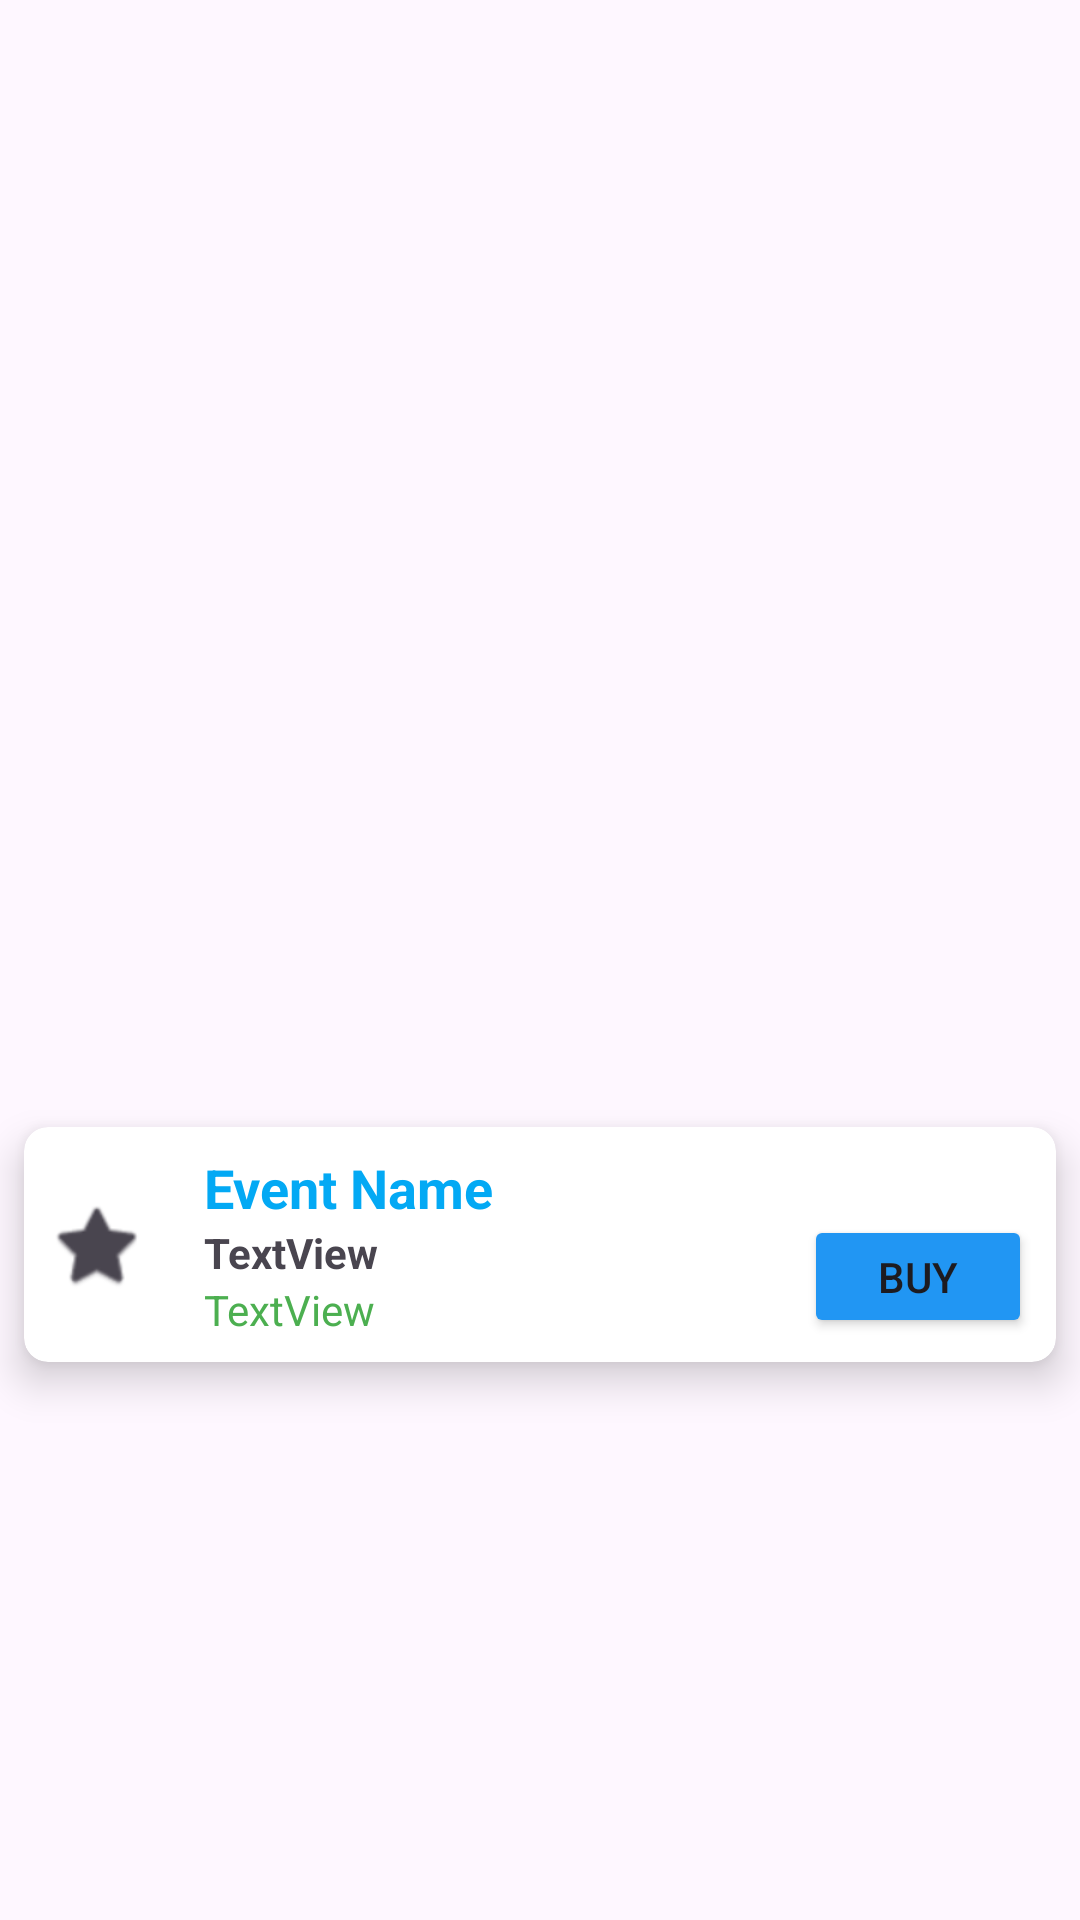

Where to tap for icons on this 1080w x 1920h app screen, as (x,y):
star: (97,1246)
